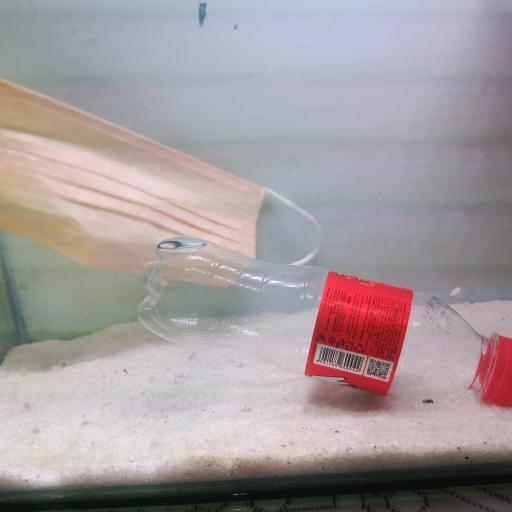bottle_cap: (473, 330, 512, 408)
mask: (4, 75, 326, 280)
plastic_bottle: (139, 233, 512, 417)
